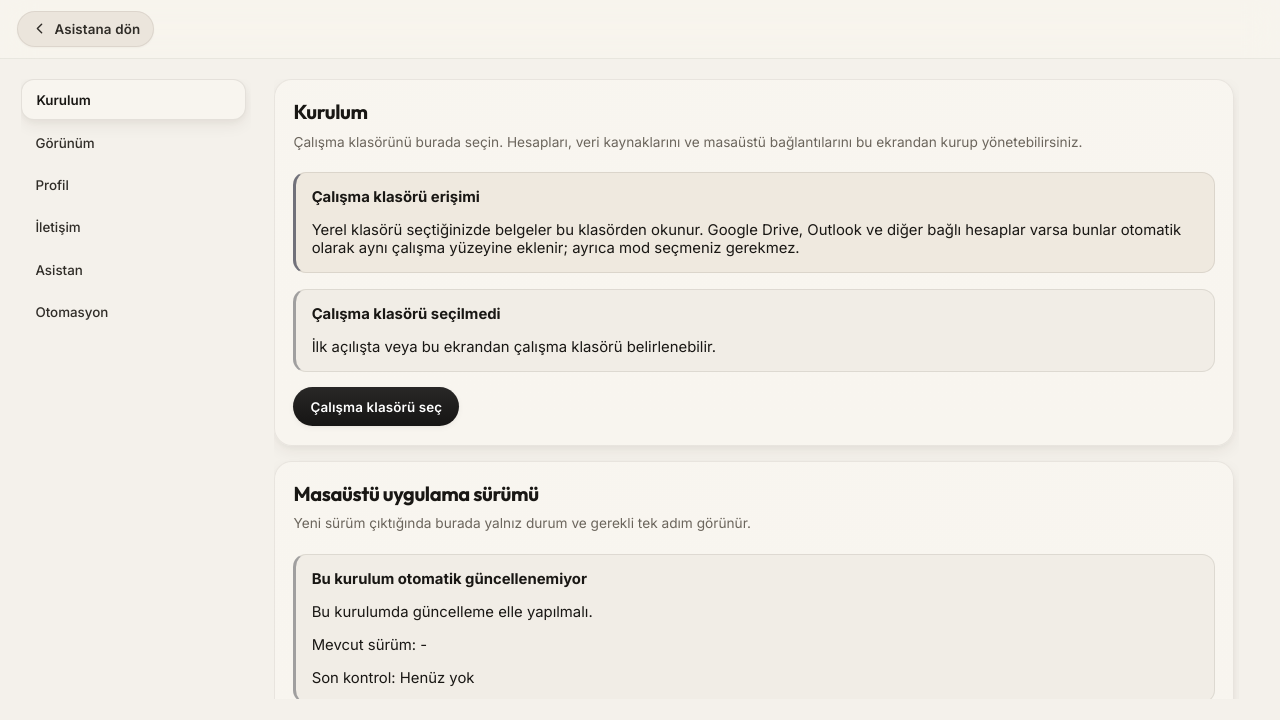
Test: SettingsPage › shows a clear success state after choosing a workspace folder
Expected: the text "Çalışma klasörü erişimi" is shown, [312,188,480,206]
Step 1. Click the button "Çalışma klasörü seç" → (376, 407), box [294,387,459,426]
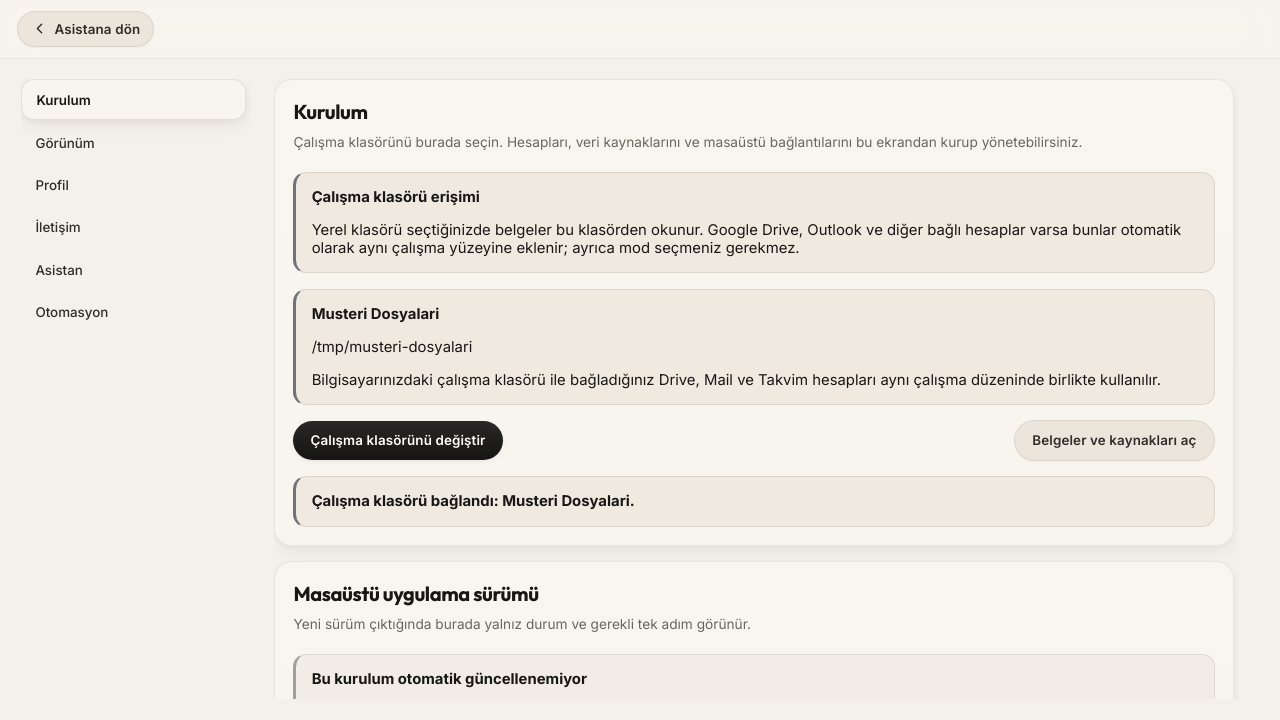
Result: the text "Çalışma klasörü bağlandı: Musteri Dosyalari." is shown at [312,492,635,510]
Result: the text "/tmp/musteri-dosyalari" is shown at [312,338,472,356]
Result: the text "Bilgisayarınızdaki çalışma klasörü ile bağladığınız Drive, Mail ve Takvim hesapları aynı çalışma düzeninde birlikte kull" is shown at [312,370,1161,388]
